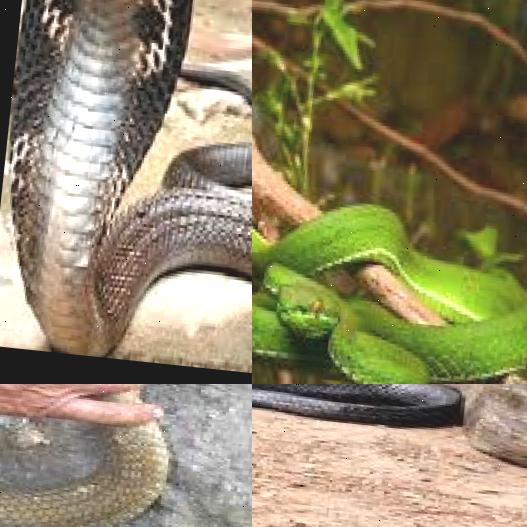snake: (0, 0, 252, 384), (252, 46, 527, 384), (252, 384, 527, 508), (0, 384, 226, 527)
